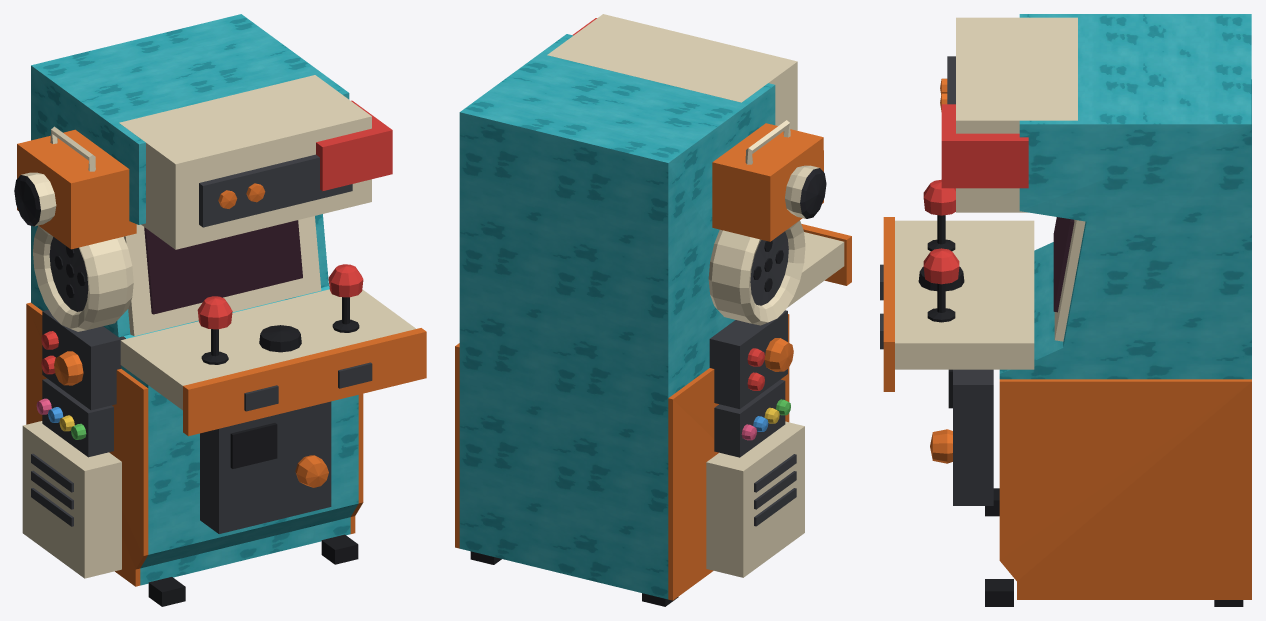
The model's file is retro_arcade.glb.
The picture shows the model from 3 angles, left to right: view 1: azimuth 30°, elevation 25°; view 2: azimuth 150°, elevation 25°; view 3: azimuth 270°, elevation 25°; orthographic projection. The views are drawn at different scales.
Visible parts, largest first — view 1: retro_arcade_cabinet, retro_arcade_controls, retro_arcade_marquee, retro_arcade_bezel, retro_arcade_coin_door, retro_arcade_vent_box, retro_arcade_camera, retro_arcade_side_art, retro_arcade_speaker, retro_arcade_knob_box, retro_arcade_red_box, retro_arcade_candy_box (+1 smaller); view 2: retro_arcade_cabinet, retro_arcade_marquee, retro_arcade_vent_box, retro_arcade_camera, retro_arcade_side_art, retro_arcade_speaker, retro_arcade_knob_box, retro_arcade_candy_box, retro_arcade_controls; view 3: retro_arcade_cabinet, retro_arcade_side_art, retro_arcade_controls, retro_arcade_marquee, retro_arcade_coin_door, retro_arcade_red_box, retro_arcade_bezel, retro_arcade_feet.
Boxes of the visible parts, x1=… form: retro_arcade_cabinet: x1=31, y1=14, x2=358, y2=585; retro_arcade_controls: x1=120, y1=264, x2=426, y2=436; retro_arcade_marquee: x1=119, y1=75, x2=371, y2=249; retro_arcade_bezel: x1=124, y1=216, x2=321, y2=336; retro_arcade_coin_door: x1=200, y1=401, x2=331, y2=533; retro_arcade_vent_box: x1=22, y1=421, x2=121, y2=578; retro_arcade_camera: x1=14, y1=126, x2=136, y2=249; retro_arcade_side_art: x1=26, y1=302, x2=363, y2=586; retro_arcade_speaker: x1=33, y1=226, x2=133, y2=331; retro_arcade_knob_box: x1=41, y1=309, x2=125, y2=410; retro_arcade_red_box: x1=316, y1=100, x2=392, y2=191; retro_arcade_candy_box: x1=36, y1=378, x2=113, y2=457; retro_arcade_cabinet: x1=459, y1=34, x2=775, y2=599; retro_arcade_marquee: x1=547, y1=14, x2=797, y2=130; retro_arcade_vent_box: x1=706, y1=421, x2=804, y2=577; retro_arcade_camera: x1=712, y1=120, x2=826, y2=241; retro_arcade_side_art: x1=455, y1=314, x2=789, y2=600; retro_arcade_speaker: x1=708, y1=220, x2=805, y2=325; retro_arcade_knob_box: x1=709, y1=310, x2=793, y2=408; retro_arcade_candy_box: x1=714, y1=379, x2=790, y2=457; retro_arcade_controls: x1=787, y1=224, x2=851, y2=307; retro_arcade_cabinet: x1=999, y1=14, x2=1251, y2=379; retro_arcade_side_art: x1=999, y1=379, x2=1251, y2=599; retro_arcade_controls: x1=880, y1=179, x2=1034, y2=391; retro_arcade_marquee: x1=940, y1=17, x2=1077, y2=212; retro_arcade_coin_door: x1=930, y1=369, x2=993, y2=505; retro_arcade_red_box: x1=941, y1=104, x2=1028, y2=188; retro_arcade_bezel: x1=1053, y1=217, x2=1085, y2=341; retro_arcade_feet: x1=985, y1=488, x2=1243, y2=606.
Bounding box in the file's own units: 1.3 × 1.85 × 1.28.
3 materials, 3 textured.
